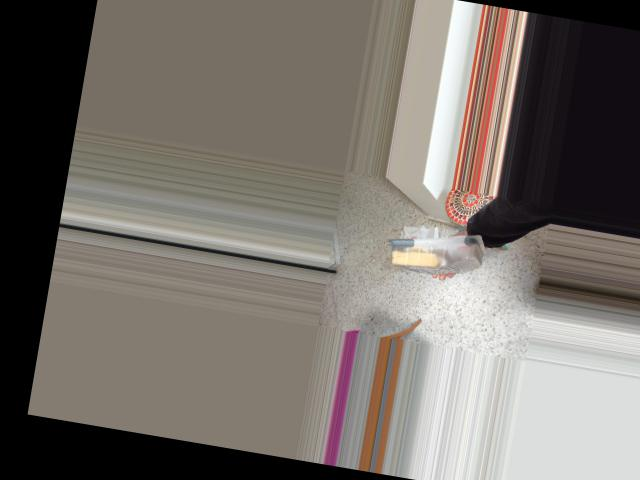cheese: (386, 217, 491, 284)
